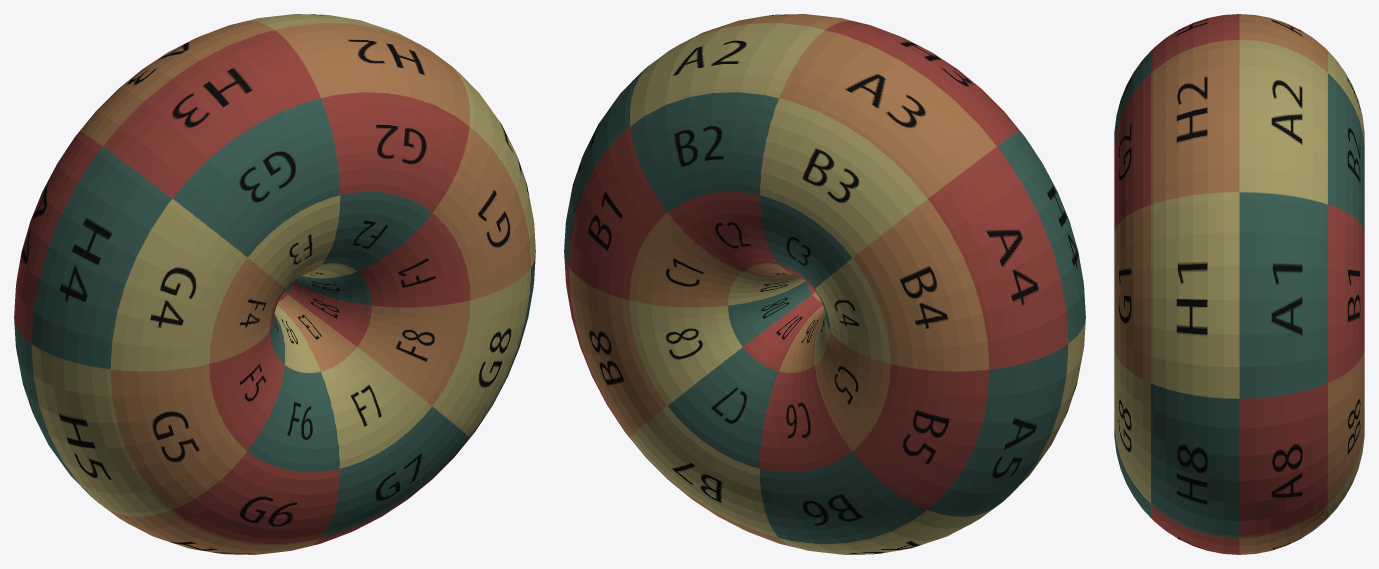
The model's file is texture_torus_R1_r27.glb.
The picture shows the model from 3 angles, left to right: view 1: azimuth 30°, elevation 25°; view 2: azimuth 150°, elevation 25°; view 3: azimuth 270°, elevation 25°; orthographic projection. The views are drawn at different scales.
Visible parts, largest first — view 1: world; view 2: world; view 3: world.
Part boxes in pixels (x1,y1,x2,y2): world: [14, 14, 535, 554]; world: [564, 14, 1085, 554]; world: [1114, 14, 1364, 554].
Bounding box in the file's own units: 19.87 × 19.83 × 9.18.
Materials: 1 (1 with a texture image).
